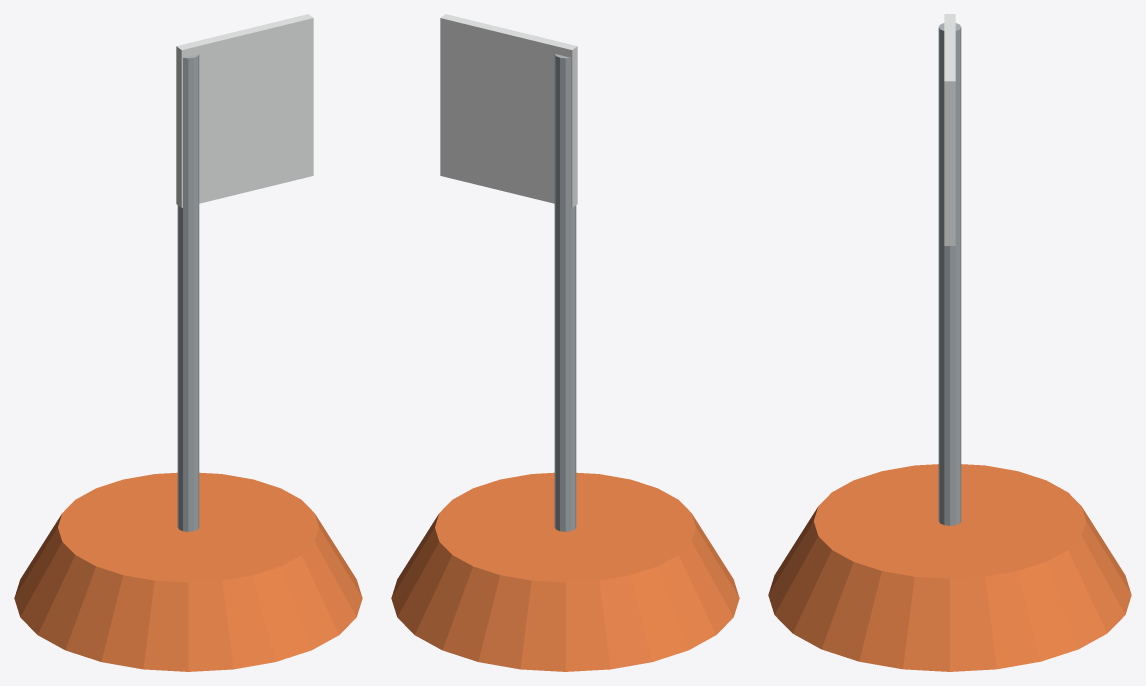
File: powerboat-racing-and-launch-ramp-safety-boat-marker-d02a9f04__22285.glb
The picture shows the model from 3 angles, left to right: view 1: azimuth 30°, elevation 25°; view 2: azimuth 150°, elevation 25°; view 3: azimuth 270°, elevation 25°; orthographic projection. The views are drawn at different scales.
Parts seen in each view (by area): view 1: safety-boat-marker; view 2: safety-boat-marker; view 3: safety-boat-marker.
Part boxes in pixels (box(x1,y1,x2,y2)): safety-boat-marker: box(14, 14, 362, 671); safety-boat-marker: box(391, 14, 739, 671); safety-boat-marker: box(768, 14, 1131, 671).
Bounding box in the file's own units: 0.8 × 1.4 × 0.8.
